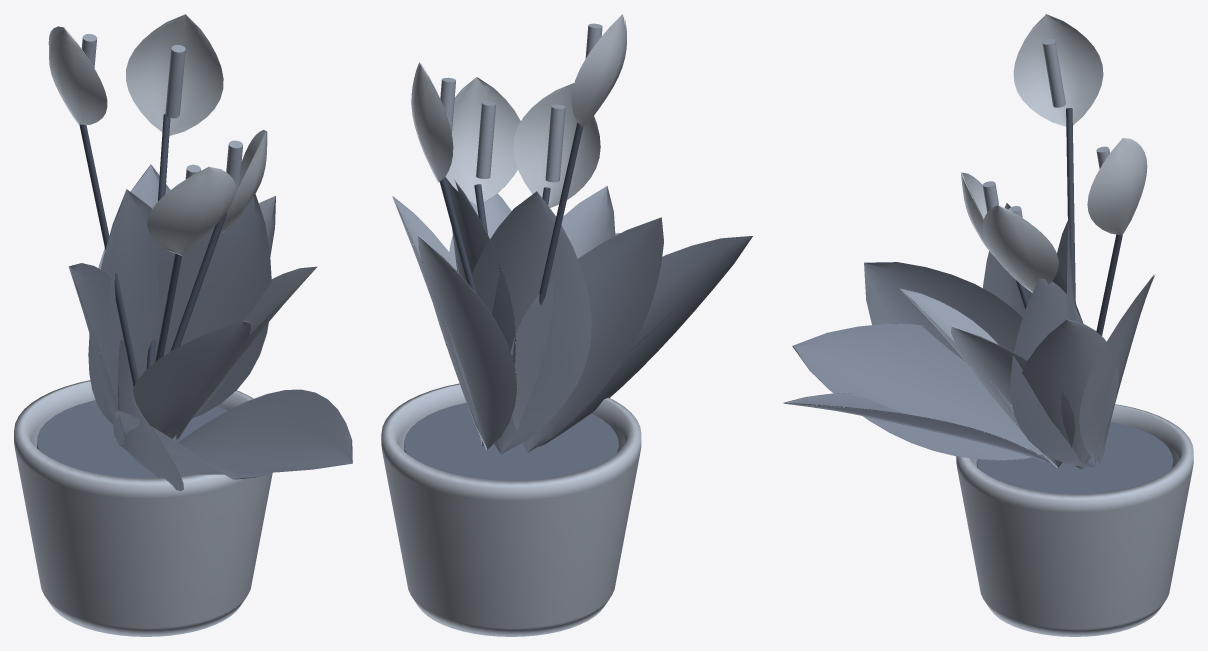
Rendered from flower-peace-lily-lite.glb.
3 renders of one model, left to right at view 1: azimuth 30°, elevation 25°; view 2: azimuth 150°, elevation 25°; view 3: azimuth 270°, elevation 25°, orthographic. The views are drawn at different scales.
Parts seen in each view (by area): view 1: body, soft, accent, light, glass, dark, flowercenter; view 2: body, soft, accent, light, glass, flowercenter, dark; view 3: soft, body, accent, light, glass, dark, flowercenter.
Boxes of the visible parts, x1,y1,x2,y2 form: body: [14, 380, 272, 636]; soft: [68, 189, 352, 491]; accent: [48, 14, 267, 255]; light: [98, 164, 317, 439]; glass: [37, 400, 227, 477]; dark: [79, 114, 226, 386]; flowercenter: [81, 34, 242, 213]; body: [381, 383, 641, 636]; soft: [446, 178, 752, 454]; accent: [411, 14, 626, 207]; light: [392, 186, 615, 449]; glass: [404, 402, 618, 480]; flowercenter: [440, 23, 602, 182]; dark: [440, 122, 582, 304]; soft: [783, 203, 1102, 466]; body: [956, 404, 1193, 636]; accent: [961, 14, 1147, 292]; light: [900, 274, 1155, 469]; glass: [976, 422, 1173, 493]; dark: [1015, 108, 1122, 335]; flowercenter: [982, 39, 1109, 217].
Bounding box in the file's own units: 0.3497 × 0.79 × 0.5416.
